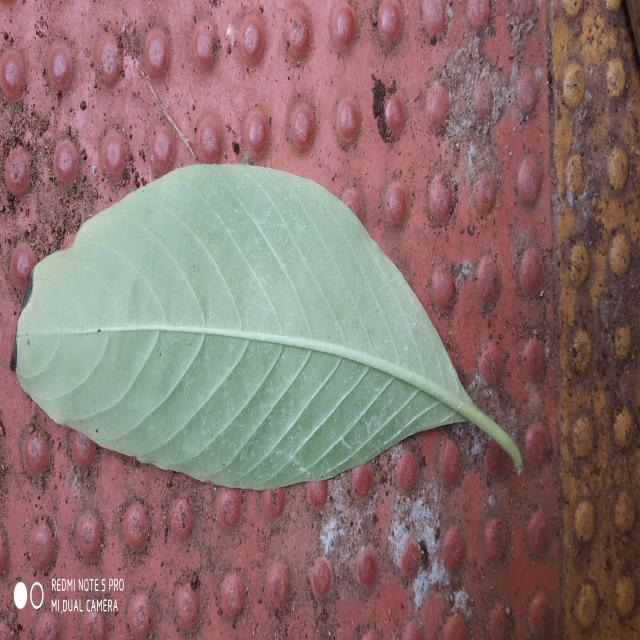malabar_nut: (11, 165, 522, 490)
